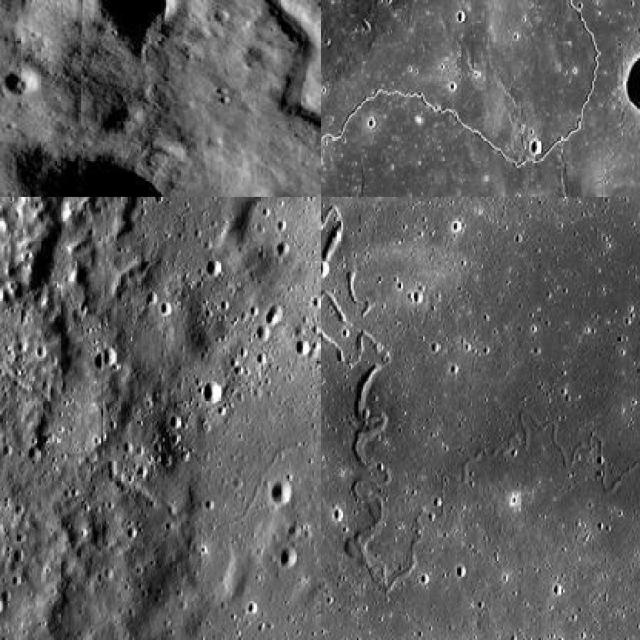rille: (350, 363, 638, 592), (320, 0, 603, 195), (209, 0, 318, 195), (206, 443, 300, 545)
